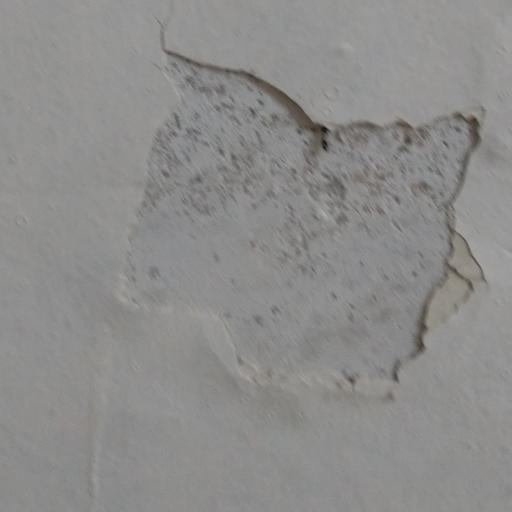peeling: (106, 30, 512, 420)
